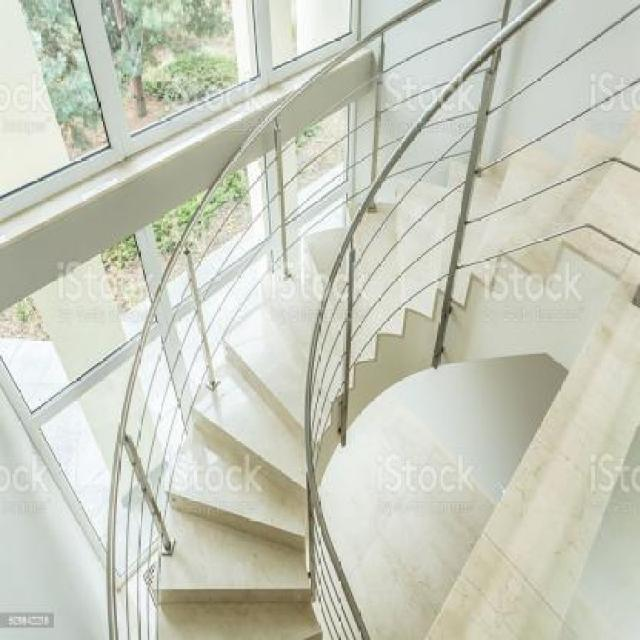stair: (104, 64, 640, 637)
